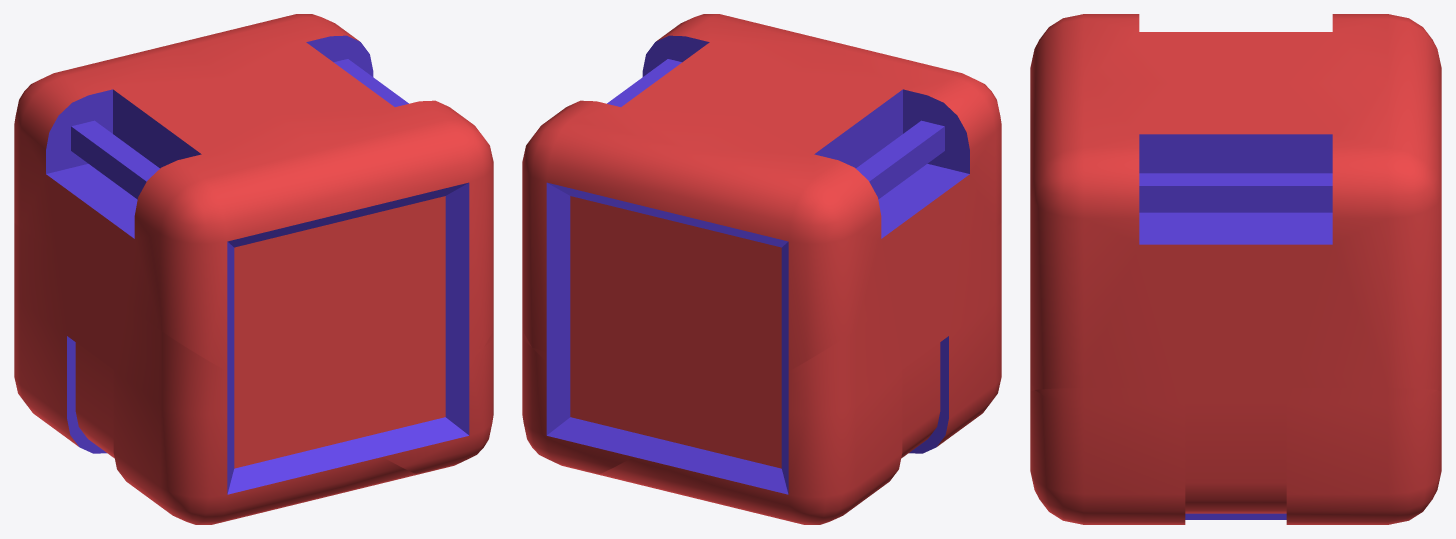
File: Vbox4.fbx
The picture shows the model from 3 angles, left to right: view 1: azimuth 30°, elevation 25°; view 2: azimuth 150°, elevation 25°; view 3: azimuth 270°, elevation 25°; orthographic projection. The views are drawn at different scales.
Visible parts, largest first — view 1: Vbox4, Vbox4.001, Vbox4.003, Vbox4.002; view 2: Vbox4.003, Vbox4.001, Vbox4, Vbox4.002; view 3: Vbox4, Vbox4.003, Vbox4.002.
Boxes of the visible parts, x1,y1,x2,y2 form: Vbox4: [69, 81, 493, 441]; Vbox4.001: [14, 223, 418, 524]; Vbox4.003: [14, 14, 394, 263]; Vbox4.002: [356, 320, 493, 474]; Vbox4.003: [522, 68, 919, 441]; Vbox4.001: [597, 223, 1001, 524]; Vbox4: [627, 14, 1001, 293]; Vbox4.002: [522, 320, 659, 474]; Vbox4: [1030, 14, 1308, 391]; Vbox4.003: [1217, 14, 1441, 391]; Vbox4.002: [1030, 388, 1441, 524].
Bounding box in the file's own units: 200 × 200 × 200.
